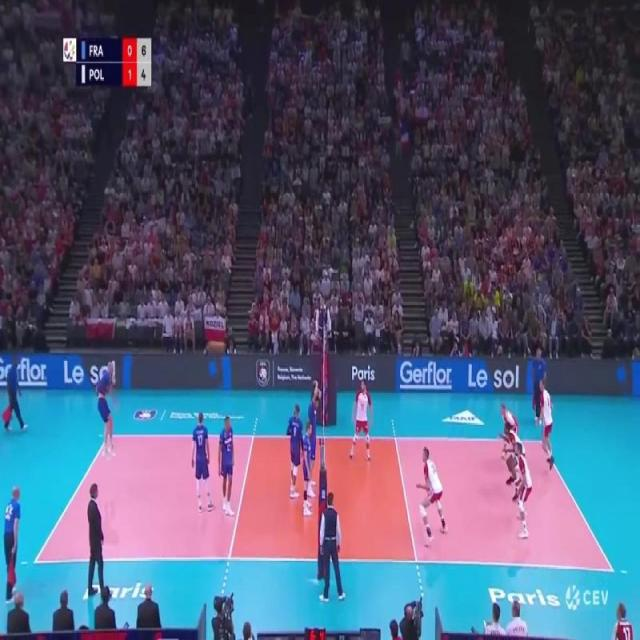volleyball: (218, 341, 226, 353)
